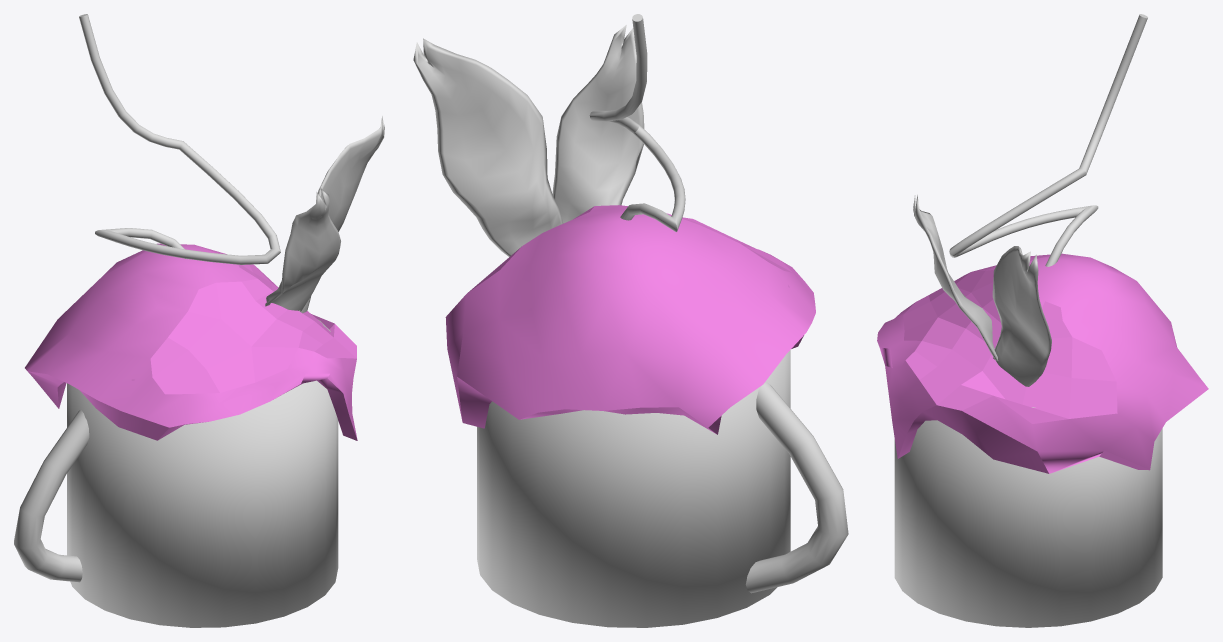
Rendered from SM_Fish_1_Food_SS.fbx.
3 renders of one model, left to right at view 1: azimuth 30°, elevation 25°; view 2: azimuth 150°, elevation 25°; view 3: azimuth 270°, elevation 25°, orthographic. The views are drawn at different scales.
Visible parts, largest first — view 1: Cylinder003, fudge, straw, cup, finn 007, finn 006; view 2: Cylinder003, fudge, finn 006, finn 007, cup, straw; view 3: fudge, Cylinder003, finn 006, straw, finn 007.
Boxes of the visible parts, left/top/right/bottom form: Cylinder003: left=67, top=319, right=338, bottom=627; fudge: left=25, top=243, right=357, bottom=440; straw: left=79, top=14, right=280, bottom=264; cup: left=14, top=410, right=89, bottom=582; finn 007: left=265, top=188, right=340, bottom=311; finn 006: left=299, top=116, right=384, bottom=313; Cylinder003: left=477, top=350, right=790, bottom=627; fudge: left=445, top=205, right=815, bottom=434; finn 006: left=413, top=38, right=563, bottom=256; finn 007: left=552, top=25, right=644, bottom=223; cup: left=745, top=382, right=848, bottom=593; straw: left=589, top=14, right=685, bottom=231; fudge: left=877, top=253, right=1208, bottom=473; Cylinder003: left=894, top=407, right=1162, bottom=627; finn 006: left=992, top=246, right=1051, bottom=386; straw: left=949, top=14, right=1147, bottom=266; finn 007: left=913, top=195, right=998, bottom=360.
Bounding box in the file's own units: 45.5 × 35.43 × 62.16.
